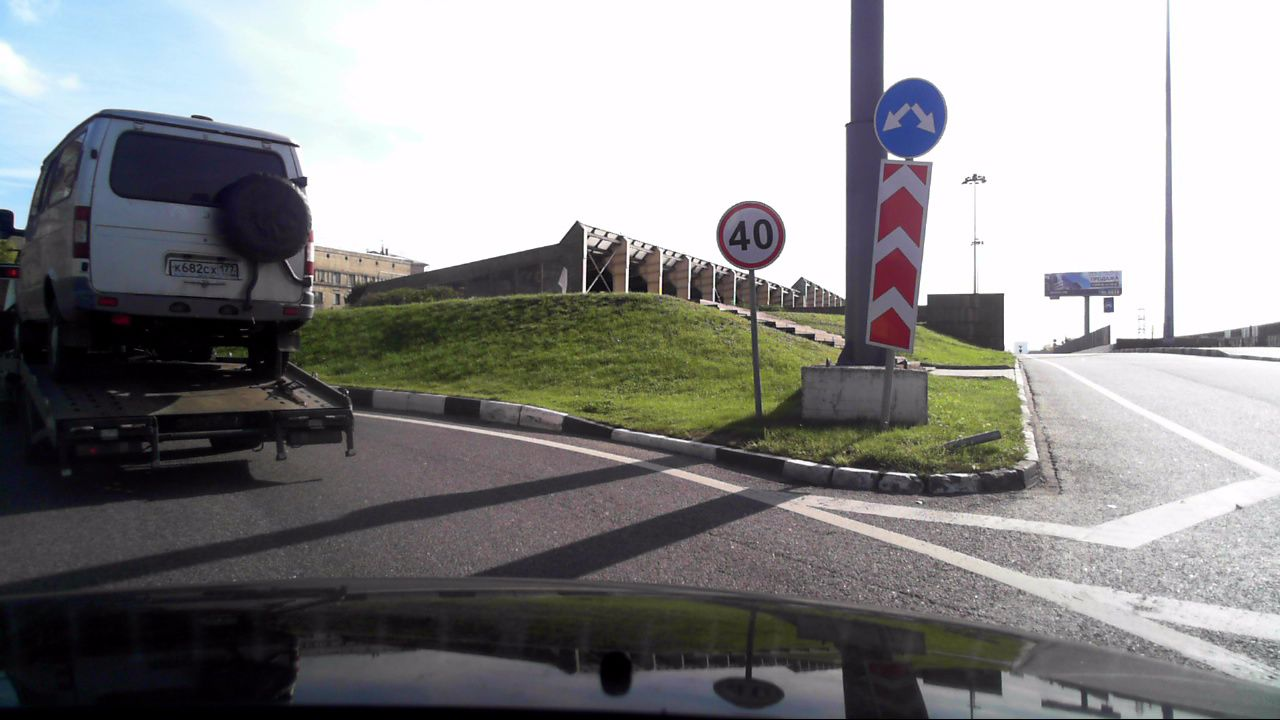speed_warning_40: (713, 201, 786, 271)
